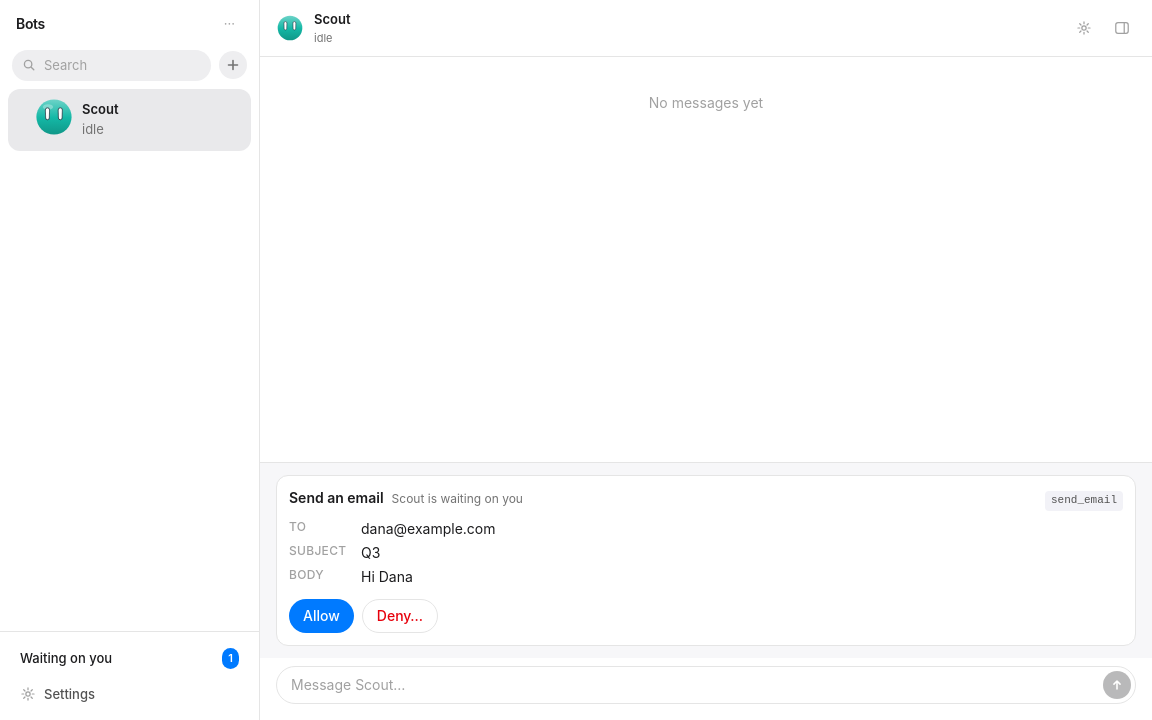
Test case: App › surfaces pending approvals in the thread and the Waiting-on-you inbox
Expected: the element "messages" is shown, top-left (260, 57), bottom-right (1151, 462)
Expected: the number of elements with test id "approval-card" is 1, top-left (276, 475), bottom-right (1136, 646)
Click the button "Waiting on you 1".
click(130, 658)  # box top-left (8, 640), bottom-right (251, 676)
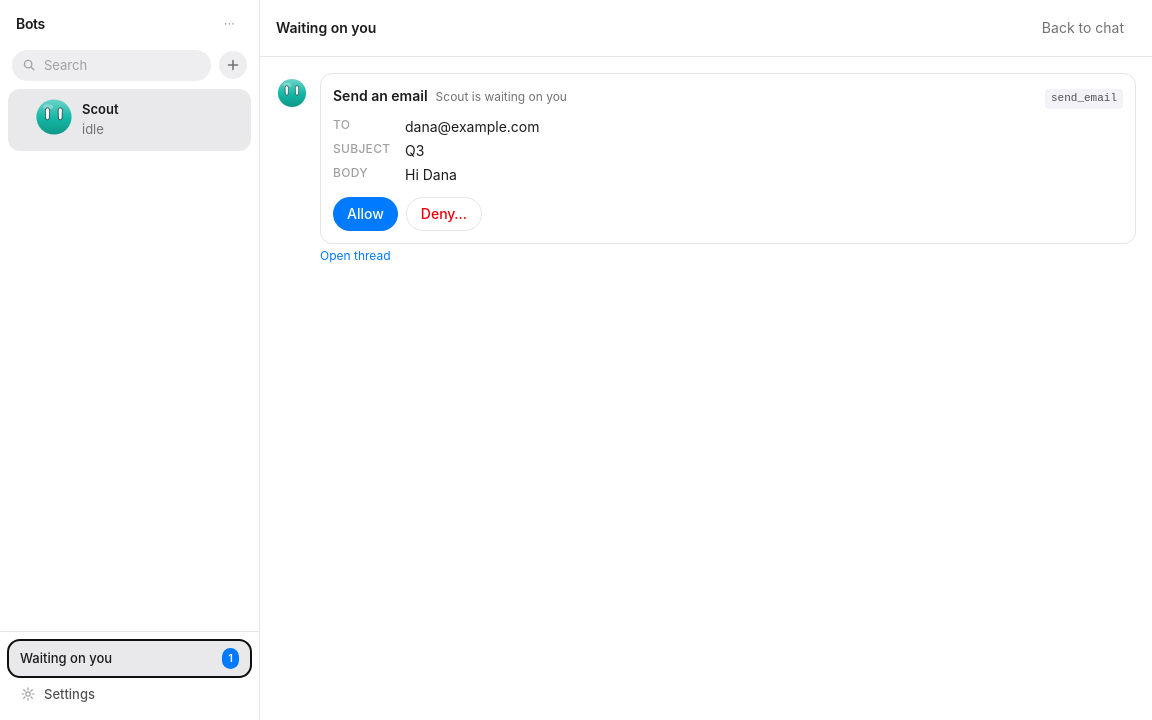
Expected: the heading "Waiting on you" is shown, top-left (276, 18), bottom-right (376, 38)
Click the button "Allow".
click(365, 214)  # box top-left (333, 197), bottom-right (398, 231)
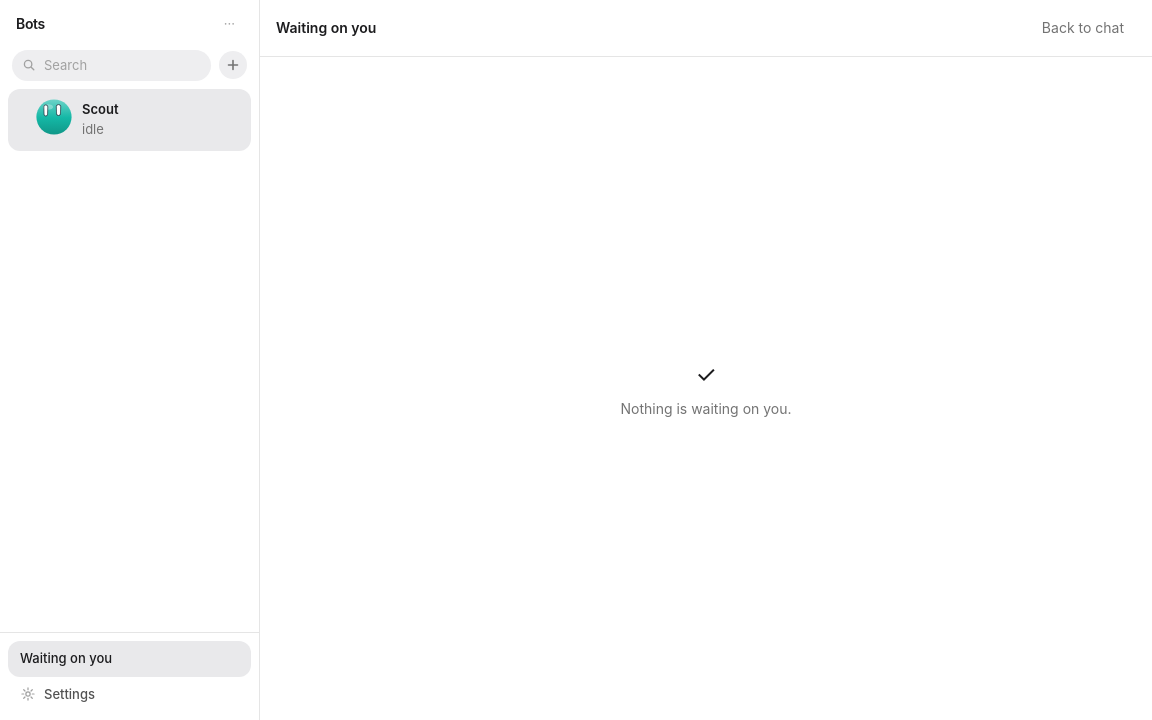
Expected: the text "Nothing is waiting on you." is shown, top-left (620, 398), bottom-right (792, 418)
